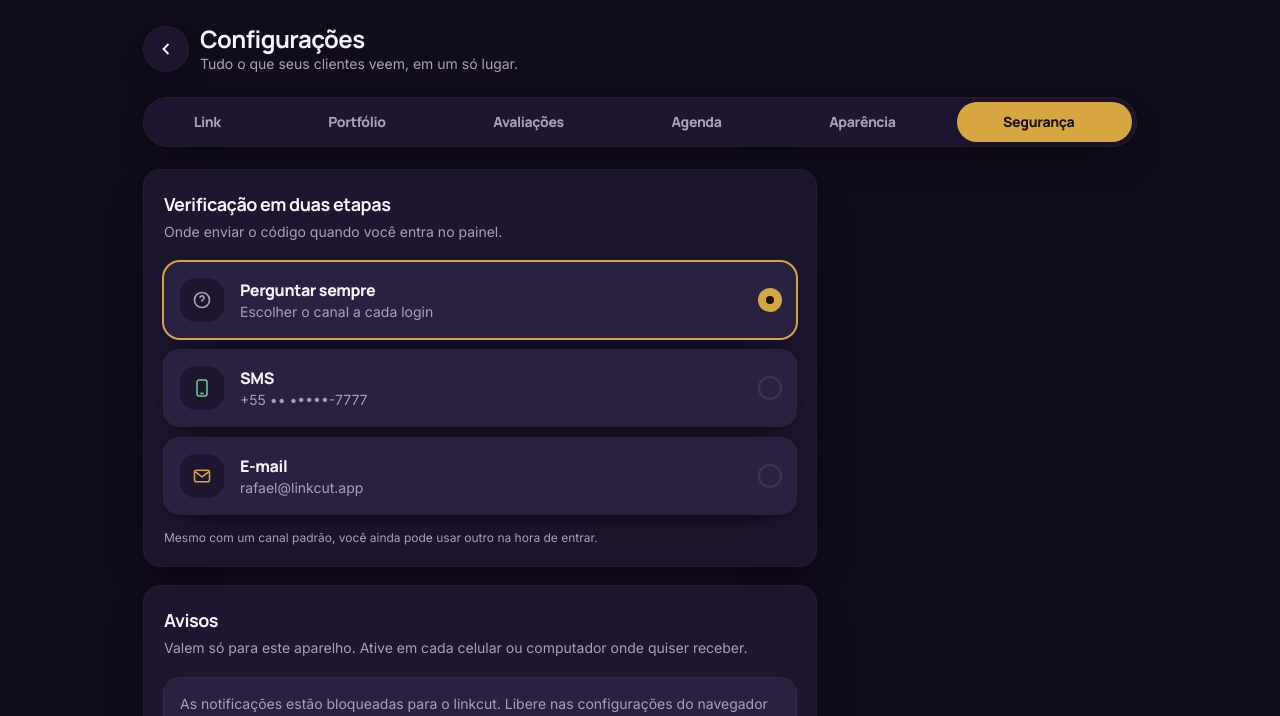
Test: SettingsView › saves the default 2FA channel on the server right away (Segurança tab)
Expected: the tab "Segurança" is shown, x1=957 y1=102 x2=1132 y2=142
Click the radio button labelled "SMS +55 •• •••••-7777" at (202, 388), box x1=164 y1=350 x2=796 y2=426
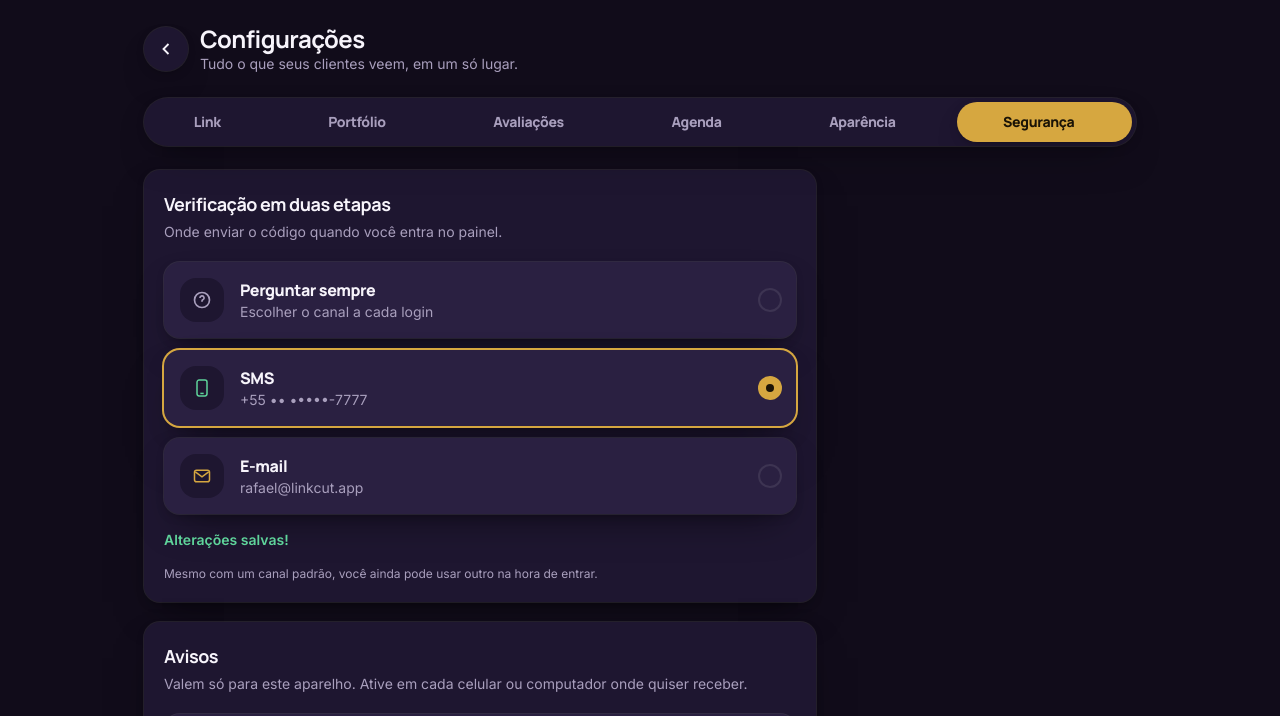
Expected: the text "Alterações salvas!" is shown, x1=164 y1=531 x2=289 y2=548
